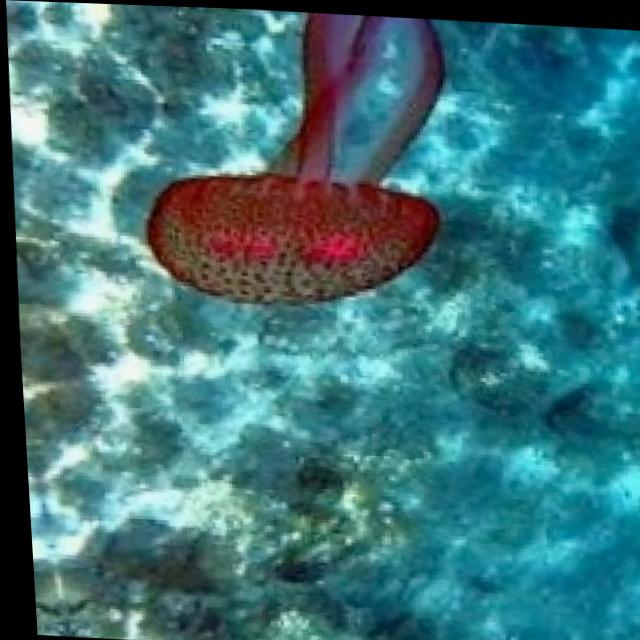Box-jellyfish: (132, 4, 462, 310)
